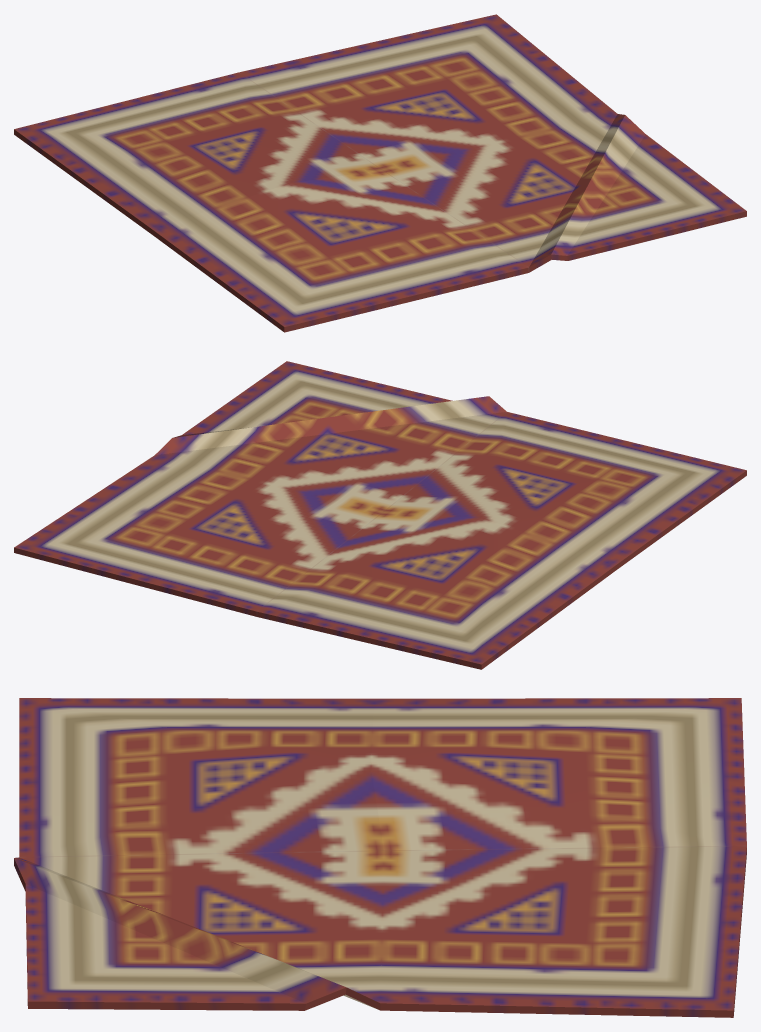
File: SM_Prop_Rug_04.glb
The picture shows the model from 3 angles, top to bottom: view 1: azimuth 30°, elevation 25°; view 2: azimuth 150°, elevation 25°; view 3: azimuth 270°, elevation 25°; orthographic projection. The views are drawn at different scales.
Visible parts, largest first — view 1: SM_Prop_Rug_04; view 2: SM_Prop_Rug_04; view 3: SM_Prop_Rug_04.
Boxes of the visible parts, left/top/right/bottom form: SM_Prop_Rug_04: left=14, top=14, right=746, bottom=332; SM_Prop_Rug_04: left=14, top=361, right=746, bottom=669; SM_Prop_Rug_04: left=14, top=698, right=746, bottom=1017.
Size of the model in its own units: 3.09 by 0.1199 by 3.06.
1 material, 1 textured.
